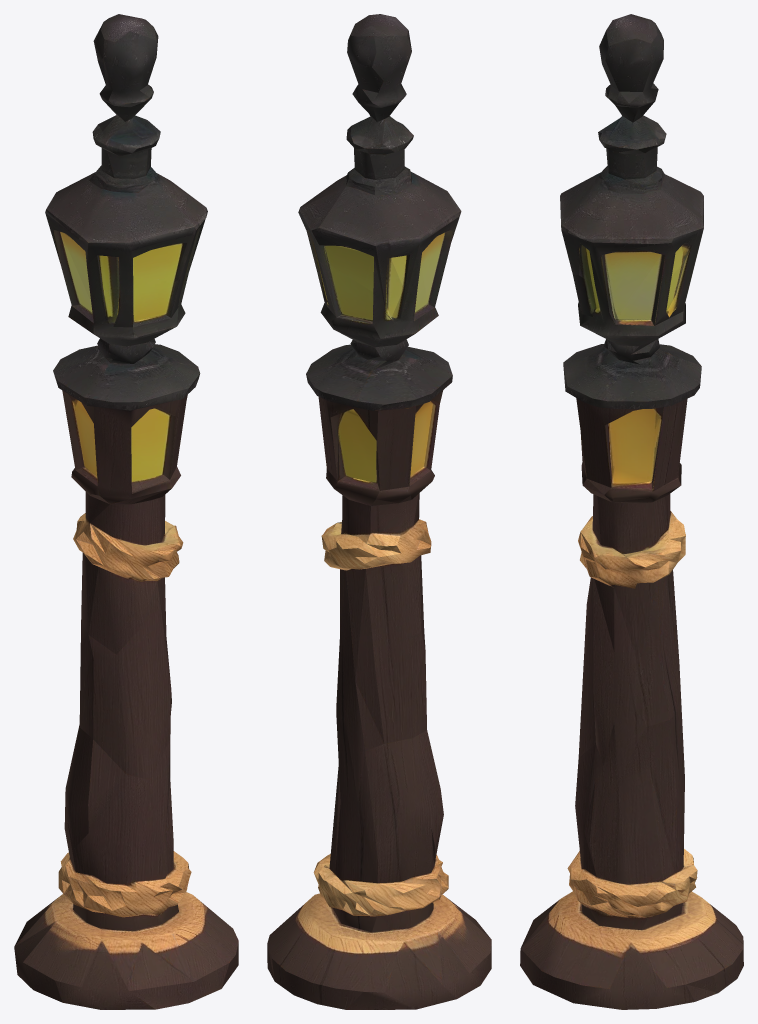
File: lantern-post.glb
3 views of the same model, side by side, from view 1: azimuth 30°, elevation 25°; view 2: azimuth 150°, elevation 25°; view 3: azimuth 270°, elevation 25° (orthographic).
Bounding box in the file's own units: 0.407 × 1.9 × 0.4072.
Materials: 1 (1 with a texture image).
